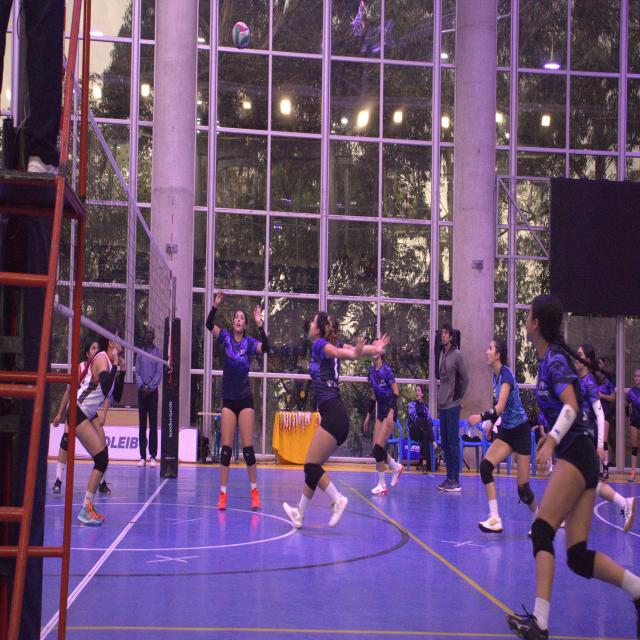volleyball: (232, 24, 250, 48)
